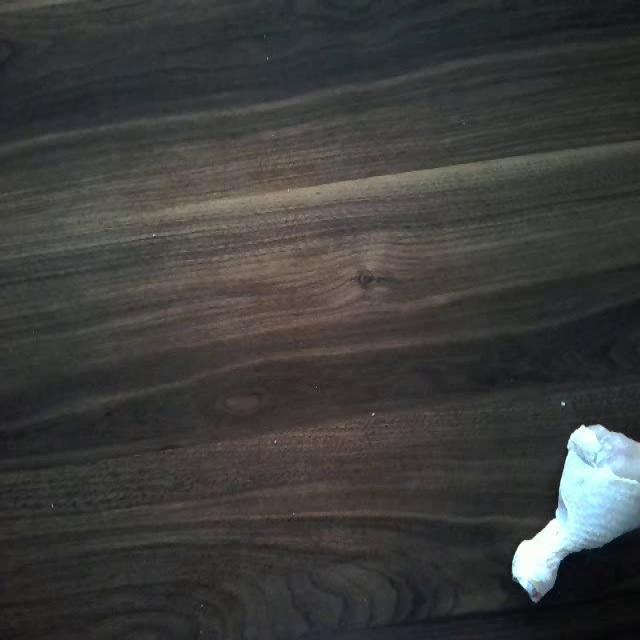leg: (511, 413, 640, 597)
